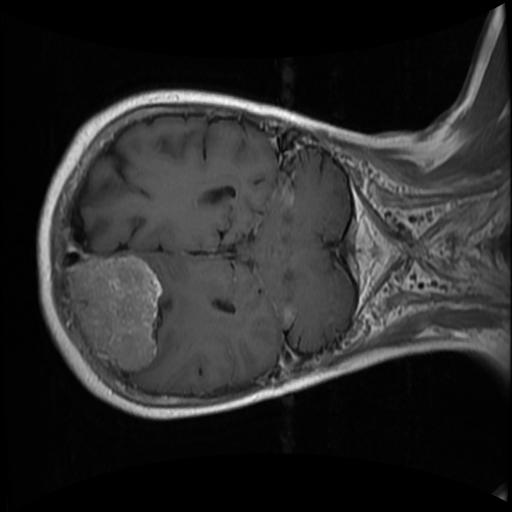meningioma: (66, 255, 164, 373)
